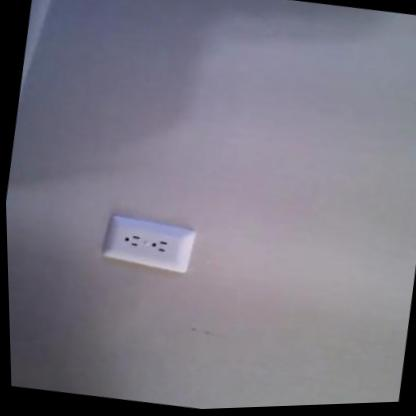OUTLET: (101, 211, 196, 277)
